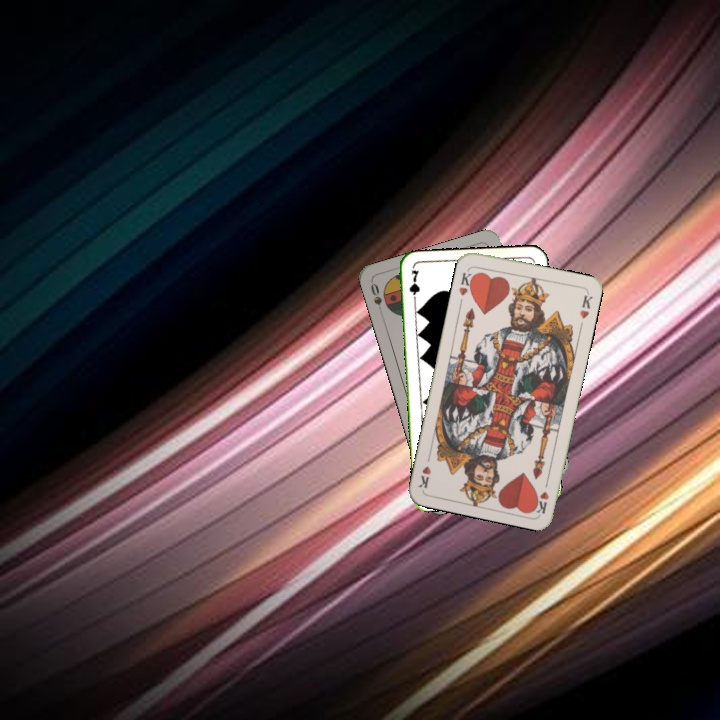G7: (405, 266, 423, 307)
HK: (531, 474, 551, 515), (455, 265, 478, 298)
SO: (366, 279, 386, 319)
